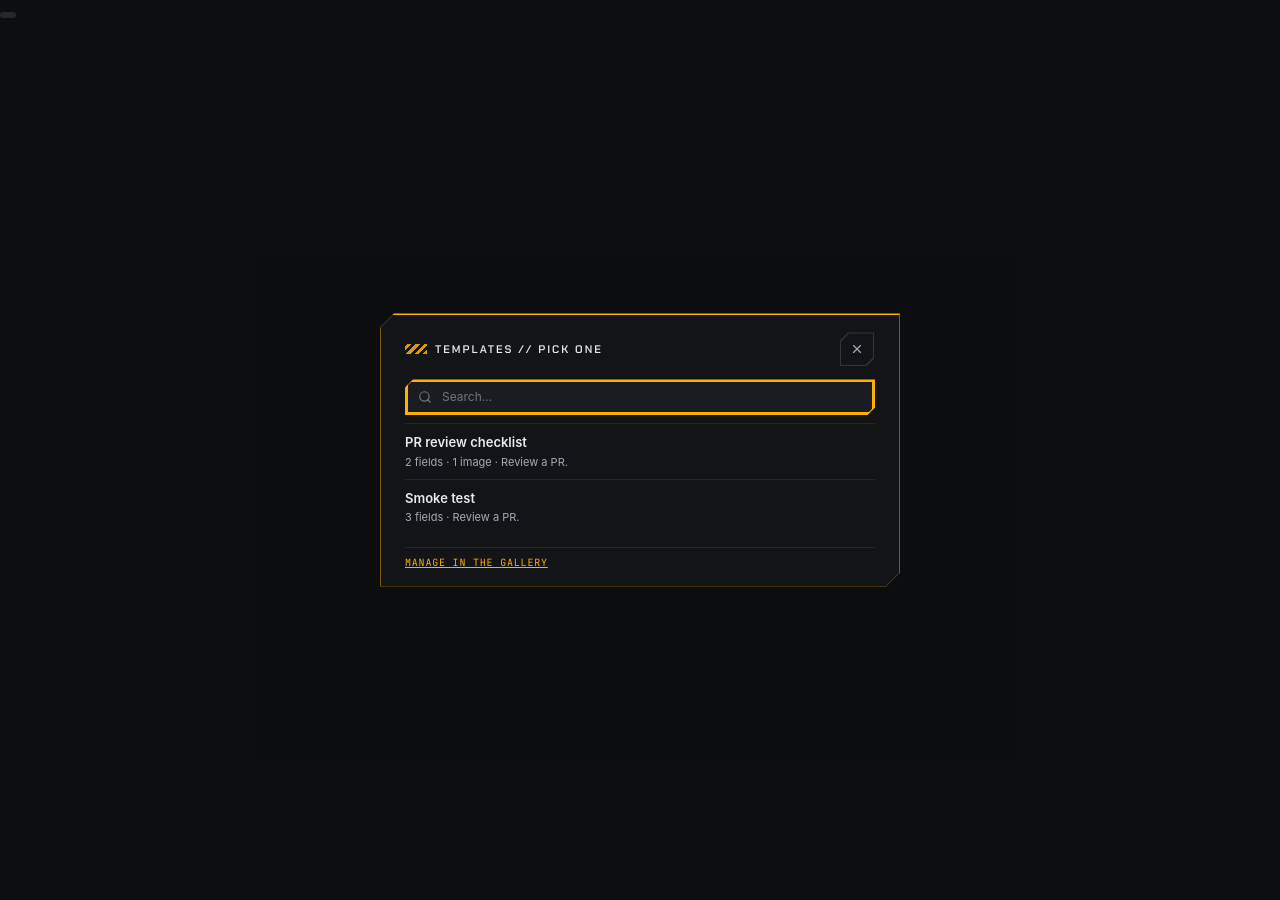
Test case: a library that cannot be loaded never blocks templates without library fields
Click the button "PR review checklist 2 fields · 1 image · Review a PR." at (466, 442), box [405,424,875,479]
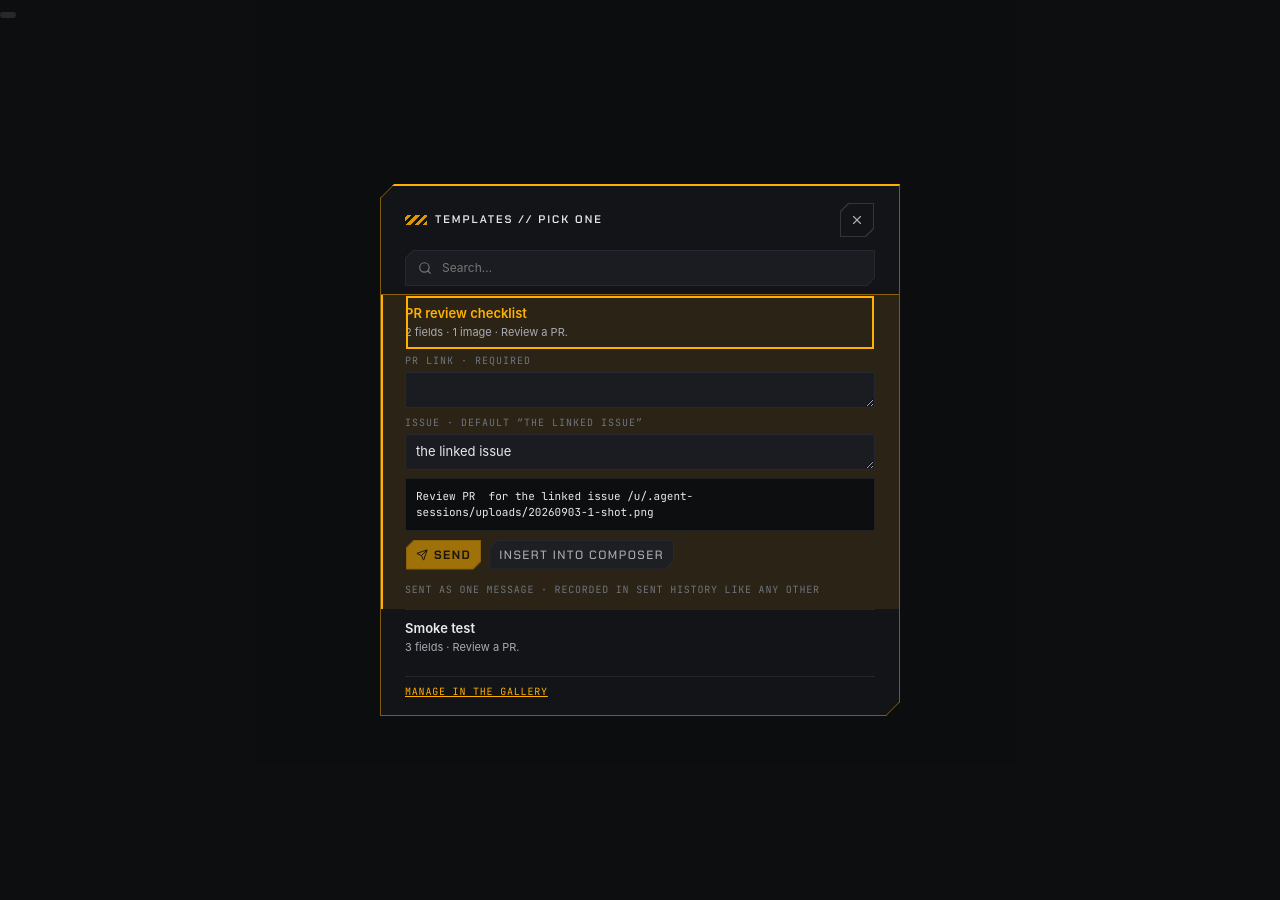
Type "https://x/1" into the text box labelled "PR link · required" at (640, 390), box [405,372,875,408]
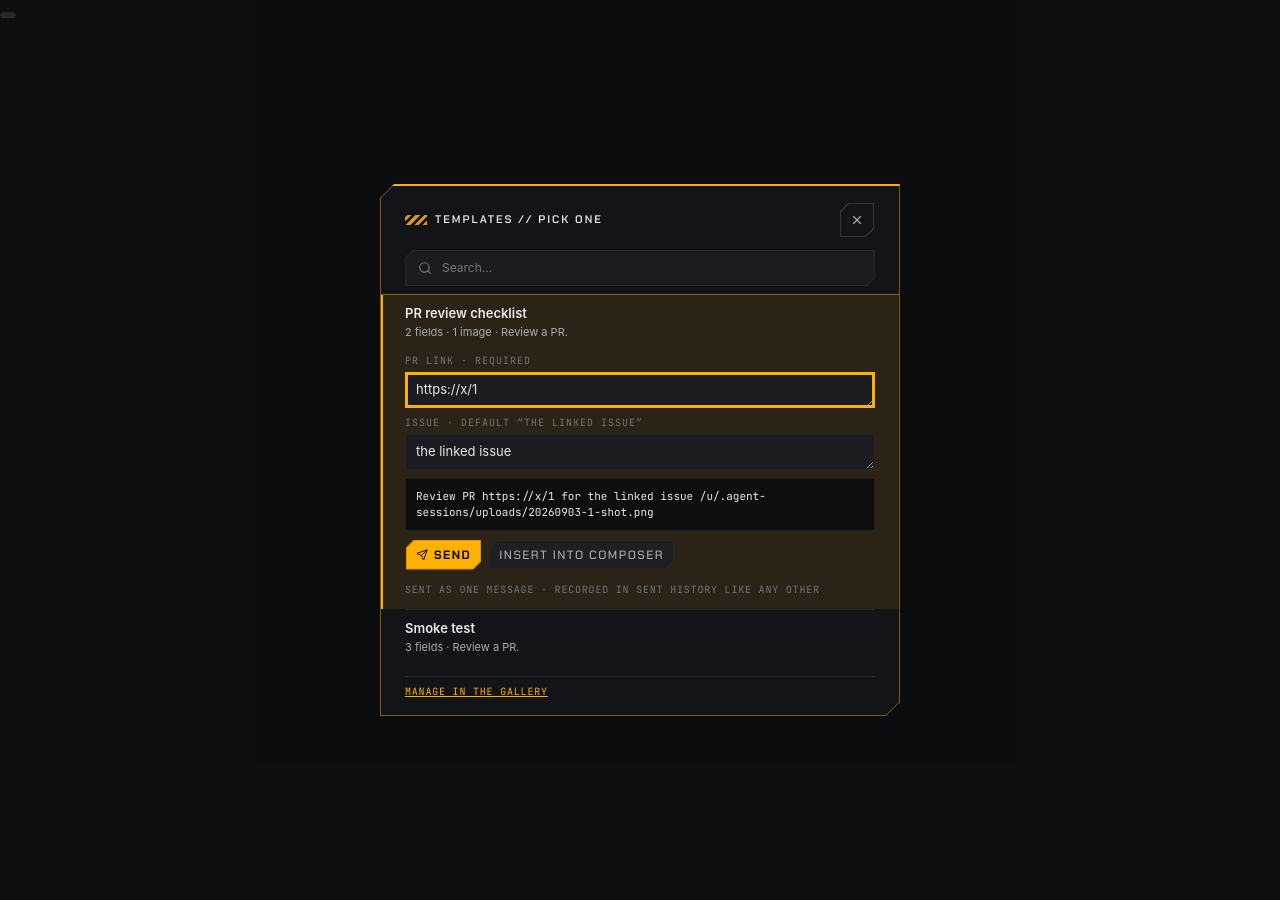
Check: the button with aria-label "send pr review checklist" is enabled, box [405,538,482,570]
Click the button "Smoke test 3 fields · Review a PR." at (440, 628), box [405,610,875,664]
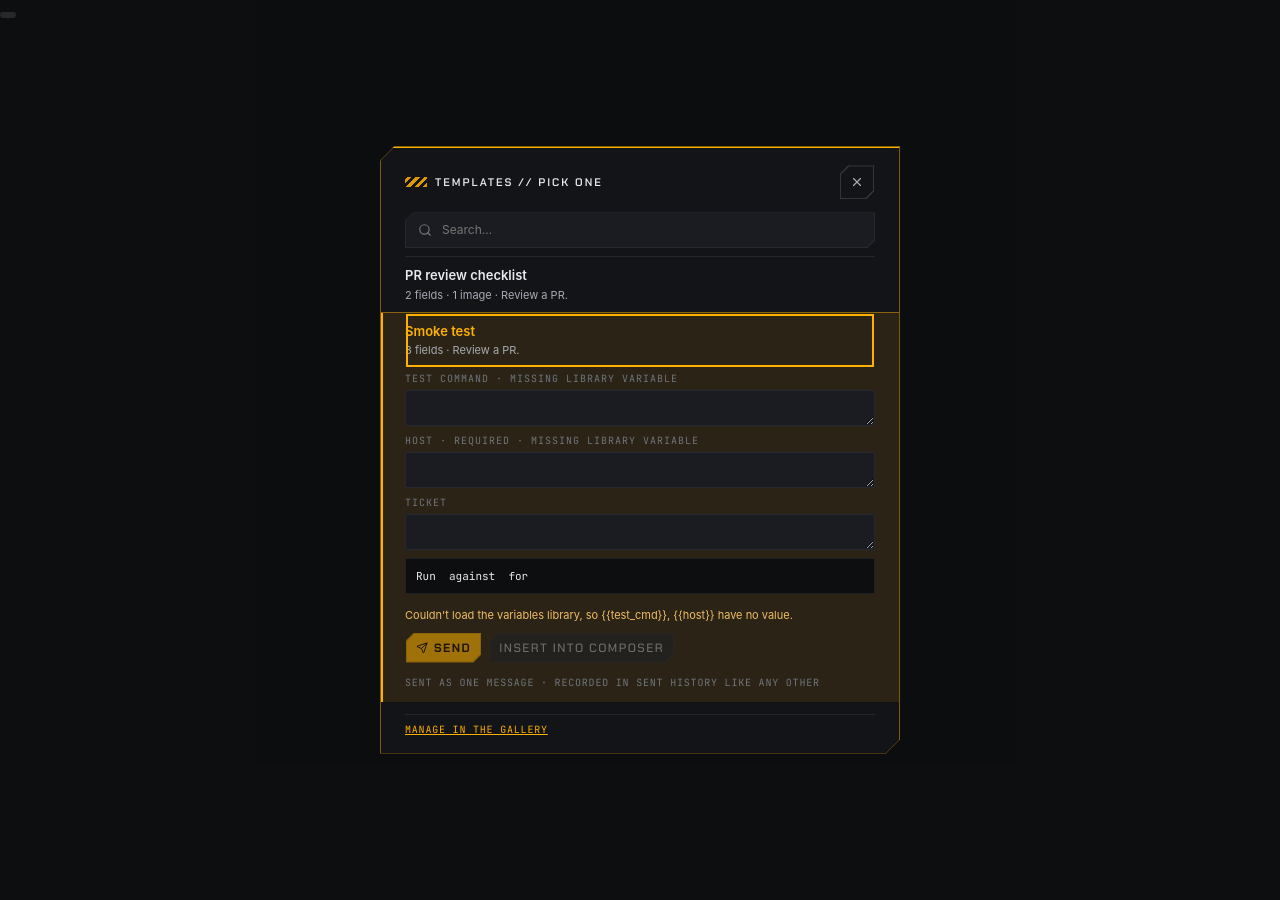
Check: the message shows "Couldn't load the variables library", box [405,608,601,622]
Check: the button with aria-label "send smoke test" is disabled, box [405,632,482,664]
